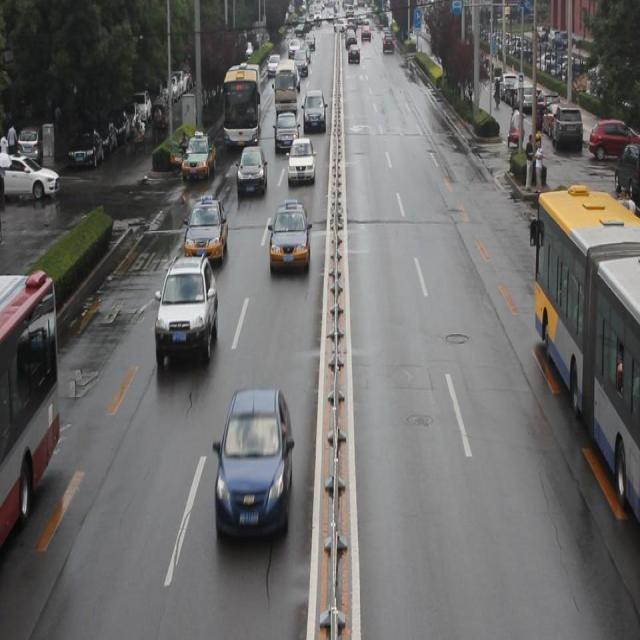car: (212, 391, 292, 542), (154, 258, 216, 366), (267, 200, 310, 273), (183, 200, 227, 268), (183, 134, 216, 184), (236, 148, 267, 192), (288, 134, 314, 185), (303, 90, 326, 132), (274, 112, 299, 150)
van: (531, 183, 640, 519), (1, 268, 60, 538), (223, 63, 260, 146)
